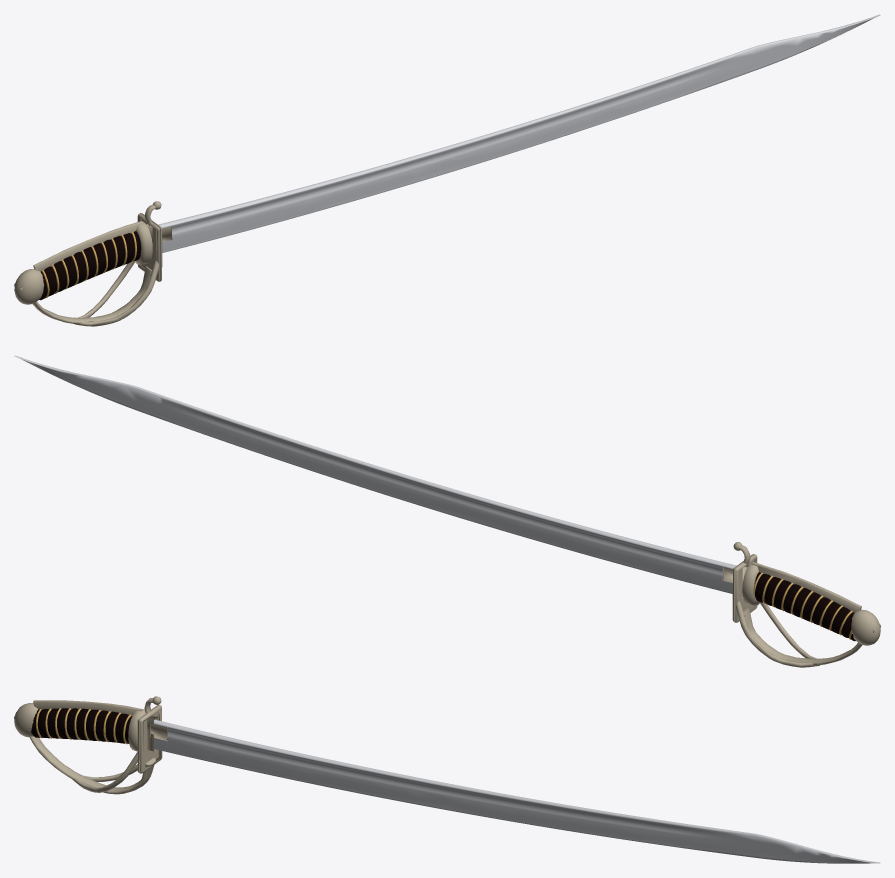
Rendered from sabre.glb.
3 renders of one model, top to bottom at view 1: azimuth 30°, elevation 25°; view 2: azimuth 150°, elevation 25°; view 3: azimuth 330°, elevation 25°, orthographic.
Visible parts, largest first — view 1: sabre_blade, sabre_hilt, sabre_grip, sabre_wire; view 2: sabre_blade, sabre_hilt, sabre_grip, sabre_wire; view 3: sabre_blade, sabre_hilt, sabre_grip, sabre_wire.
Boxes of the visible parts, bbox=[...] form: sabre_blade: bbox=[158, 14, 880, 252]; sabre_hilt: bbox=[14, 201, 172, 326]; sabre_grip: bbox=[39, 231, 141, 300]; sabre_wire: bbox=[42, 231, 136, 298]; sabre_blade: bbox=[14, 355, 736, 593]; sabre_hilt: bbox=[722, 542, 880, 667]; sabre_grip: bbox=[754, 572, 855, 641]; sabre_wire: bbox=[753, 573, 852, 639]; sabre_blade: bbox=[154, 719, 880, 863]; sabre_hilt: bbox=[14, 696, 167, 794]; sabre_grip: bbox=[31, 708, 131, 743]; sabre_wire: bbox=[36, 708, 131, 744].
Size of the model in its own units: 0.9881 by 0.1284 by 0.0536.
